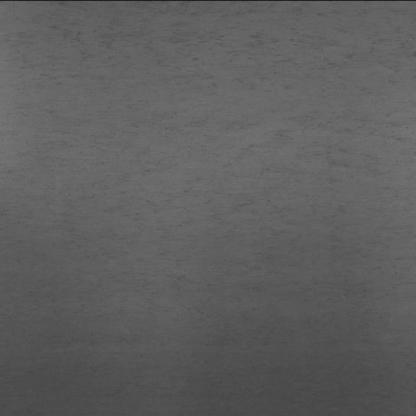silk_spot: (155, 108, 385, 305)
